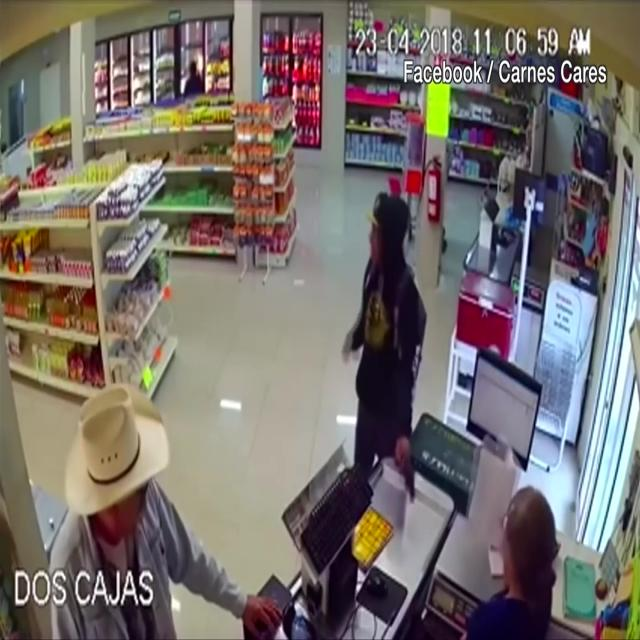Weapon: (390, 431, 432, 527)
